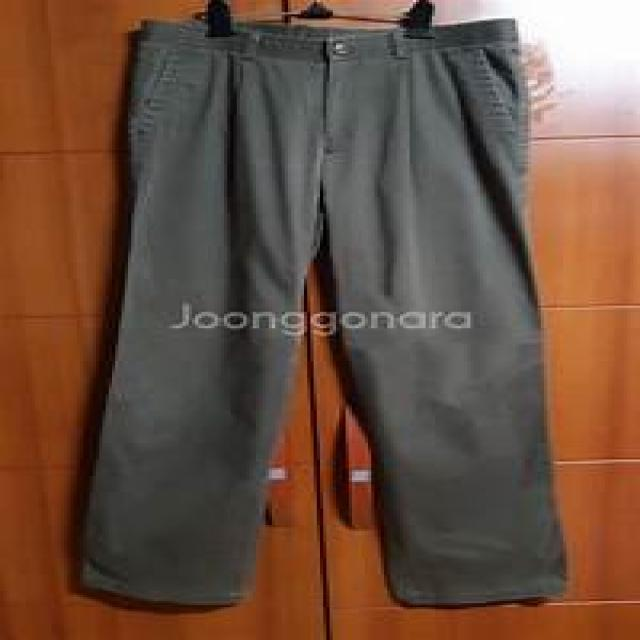long-pants: (72, 20, 570, 607)
